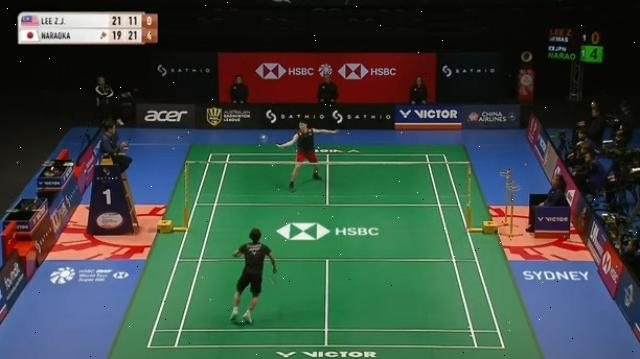Shuttlecock: (258, 132, 268, 144)
